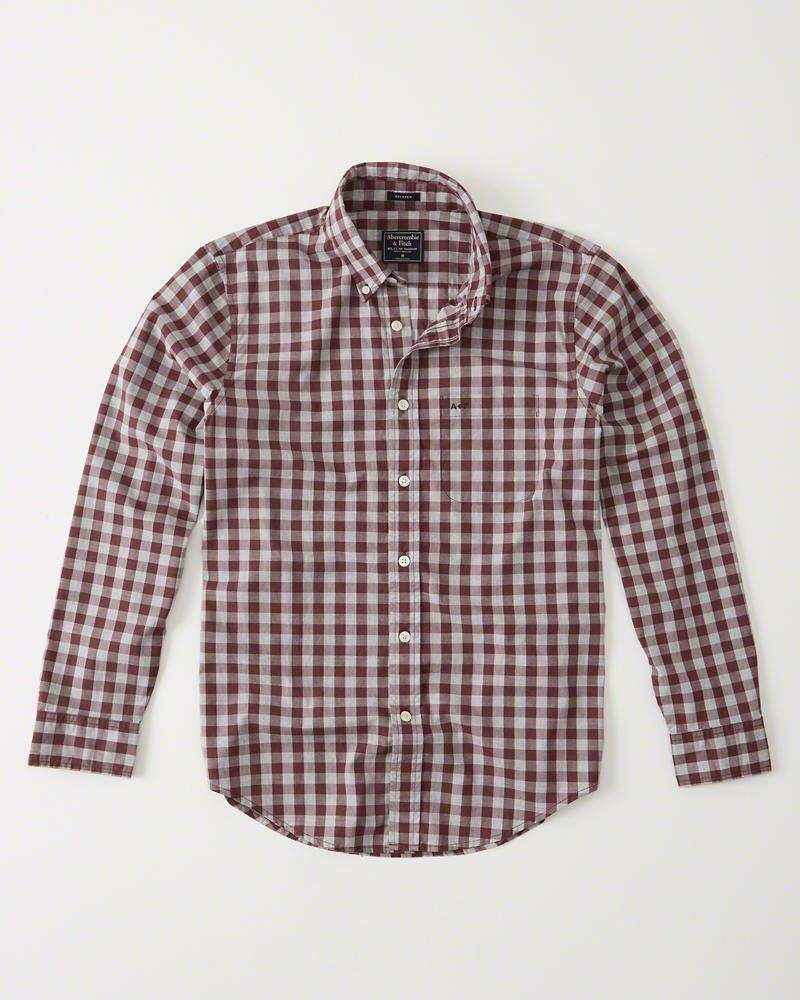teeshirt: (35, 168, 795, 877)
